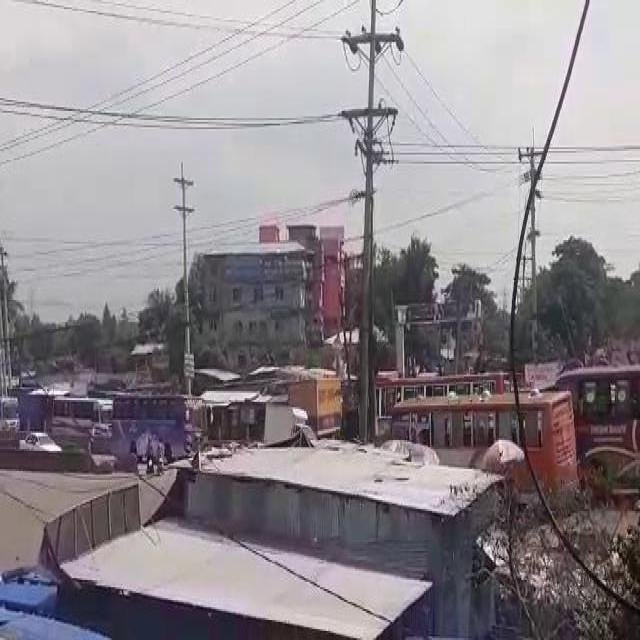Truck: (392, 400, 574, 502), (373, 366, 507, 448), (561, 367, 639, 491), (110, 392, 202, 463), (49, 390, 114, 454)
